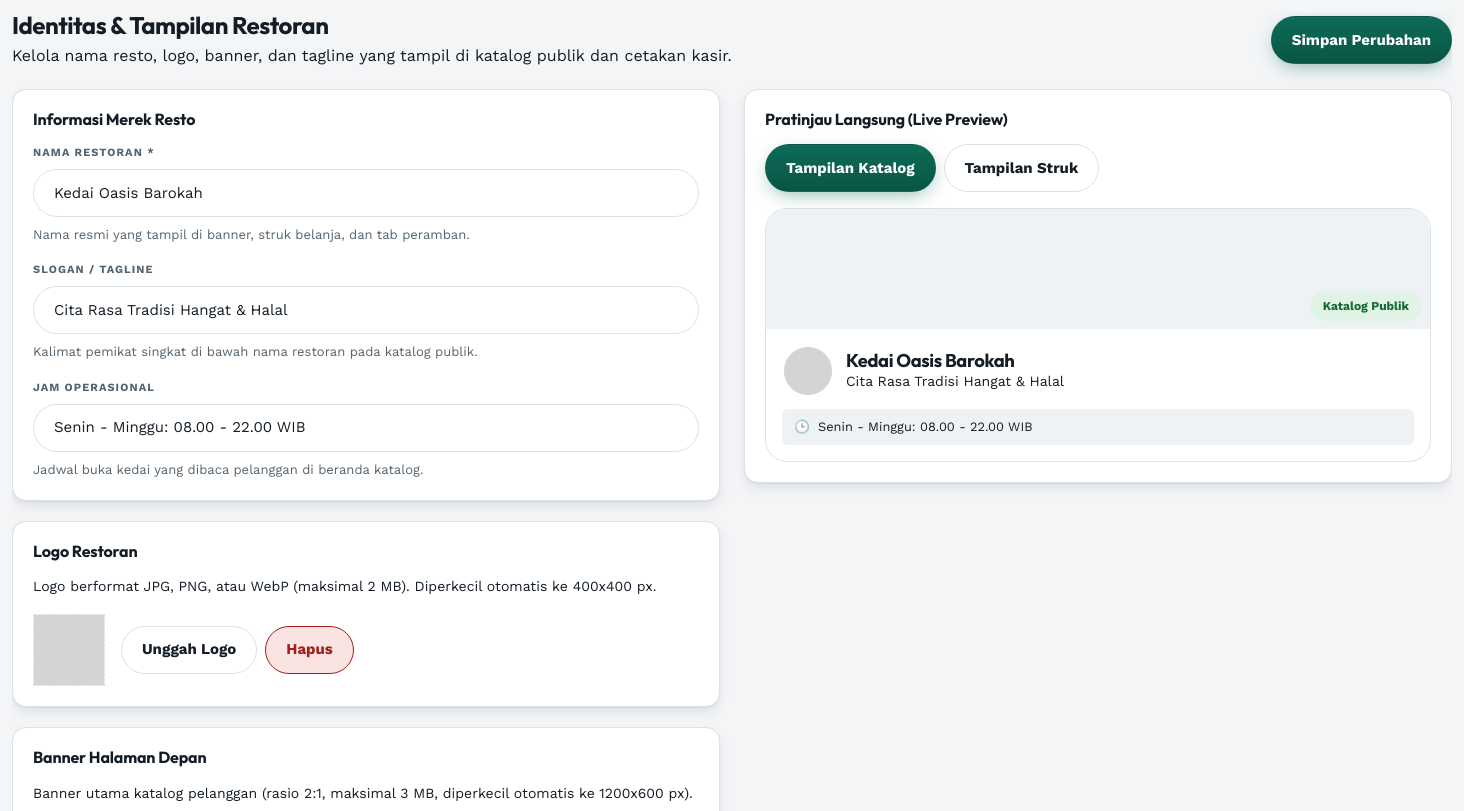
Scenario: Identitas (Pengaturan Identitas & Tampilan Resto — T9-01) › menangani kegagalan simpan dari server (mis. konflik versi)
Click the button with aria-label "simpan identitas resto".
click(1361, 40)  # box [1271,16,1452,64]
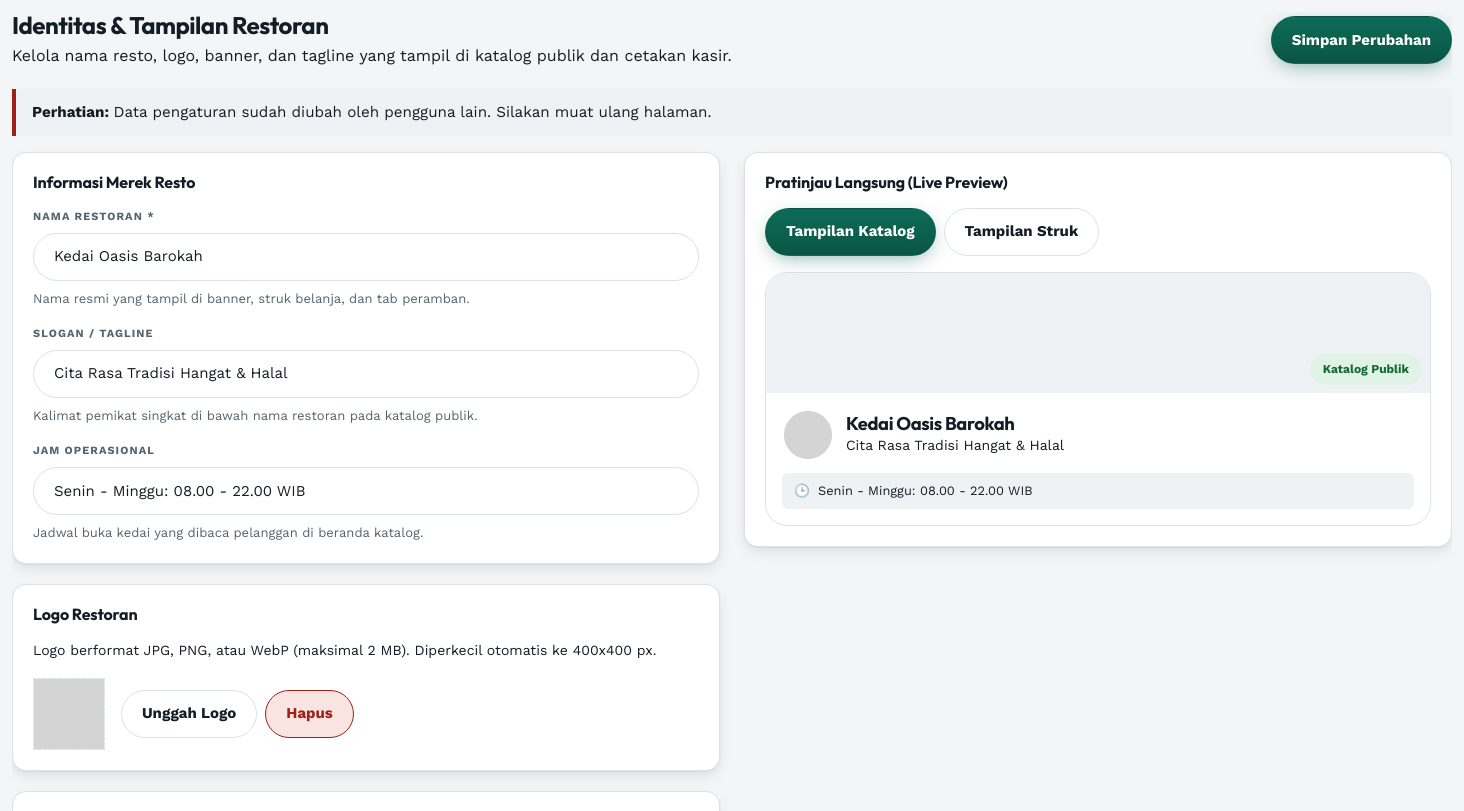
Result: the message is shown at [12,89,1452,136]
Result: the text "Data pengaturan sudah diubah oleh pengguna lain" is shown at [114,103,712,121]
